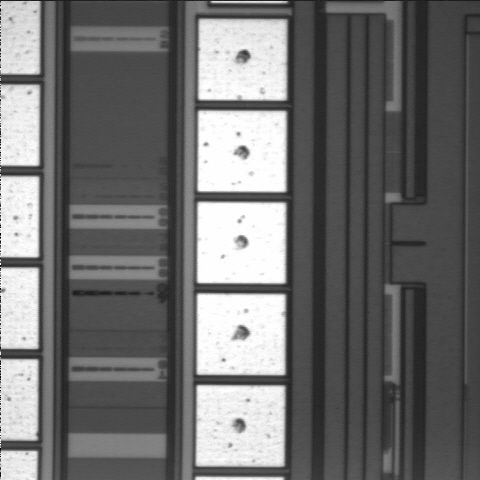pad: (197, 202, 286, 284), (196, 385, 285, 467), (197, 293, 285, 375), (198, 19, 287, 100), (197, 111, 286, 192)
